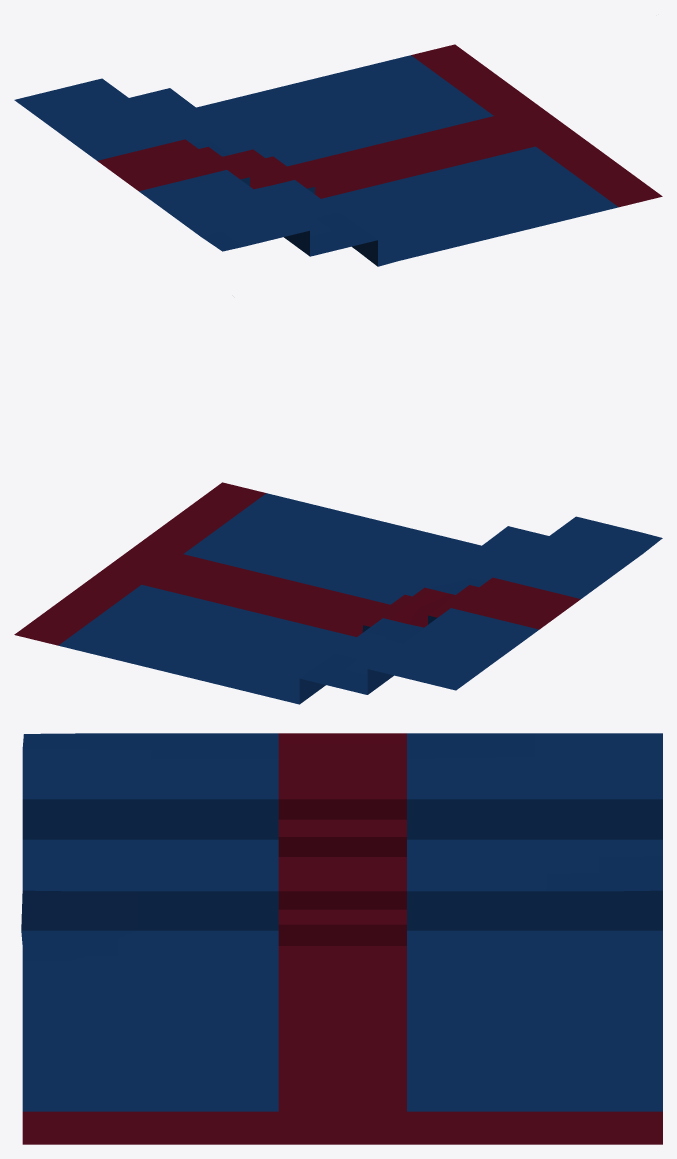
The model's file is CinemaFloor.fbx.
3 views of the same model, one above another, from view 1: azimuth 30°, elevation 25°; view 2: azimuth 150°, elevation 25°; view 3: azimuth 270°, elevation 25° (orthographic). The views are drawn at different scales.
Parts seen in each view (by area): view 1: pPlane4; view 2: pPlane4; view 3: pPlane4.
Boxes of the visible parts, x1,y1,x2,y2 form: pPlane4: (14,44,662,266); pPlane4: (14,482,662,704); pPlane4: (21,733,662,1144).
Size of the model in its own units: 365 by 148 by 302.
